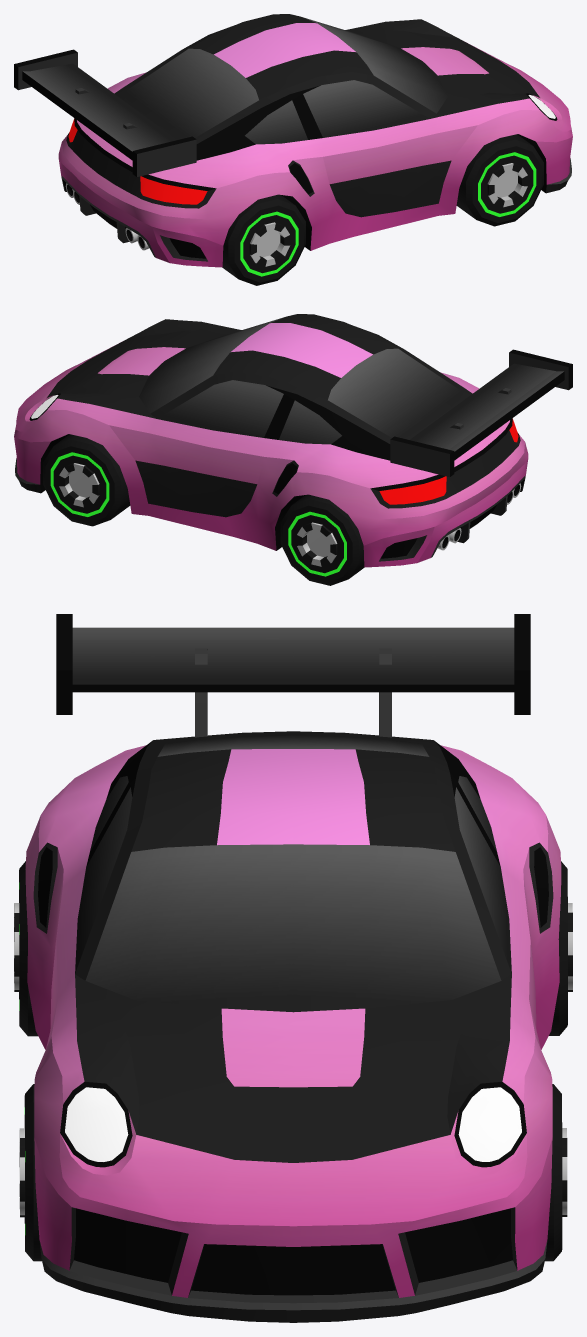
The model's file is RaceCar_099.glb.
3 views of the same model, one above another, from view 1: azimuth 30°, elevation 25°; view 2: azimuth 150°, elevation 25°; view 3: azimuth 270°, elevation 25° (orthographic). The views are drawn at different scales.
Visible parts, largest first — view 1: RaceCar_099, wheel_1_RaceCar_099_Wheel_1R, wheel_3_RaceCar_099_Wheel_2R; view 2: RaceCar_099, wheel_0_RaceCar_099_Wheel_1L, wheel_2_RaceCar_099_Wheel_2L; view 3: RaceCar_099, wheel_1_RaceCar_099_Wheel_1R, wheel_0_RaceCar_099_Wheel_1L, wheel_3_RaceCar_099_Wheel_2R, wheel_2_RaceCar_099_Wheel_2L.
Part boxes in pixels (<box>): RaceCar_099: <box>14,14,572,267</box>; wheel_1_RaceCar_099_Wheel_1R: <box>456,134,543,226</box>; wheel_3_RaceCar_099_Wheel_2R: <box>222,194,305,285</box>; RaceCar_099: <box>14,314,572,567</box>; wheel_0_RaceCar_099_Wheel_1L: <box>43,434,130,526</box>; wheel_2_RaceCar_099_Wheel_2L: <box>280,494,364,585</box>; RaceCar_099: <box>25,614,561,1322</box>; wheel_1_RaceCar_099_Wheel_1R: <box>19,1084,41,1261</box>; wheel_0_RaceCar_099_Wheel_1L: <box>545,1084,567,1261</box>; wheel_3_RaceCar_099_Wheel_2R: <box>14,861,37,1036</box>; wheel_2_RaceCar_099_Wheel_2L: <box>549,861,572,1035</box>.
Size of the model in its own units: 3.8 by 1.31 by 2.03.
4 materials, 4 textured.
